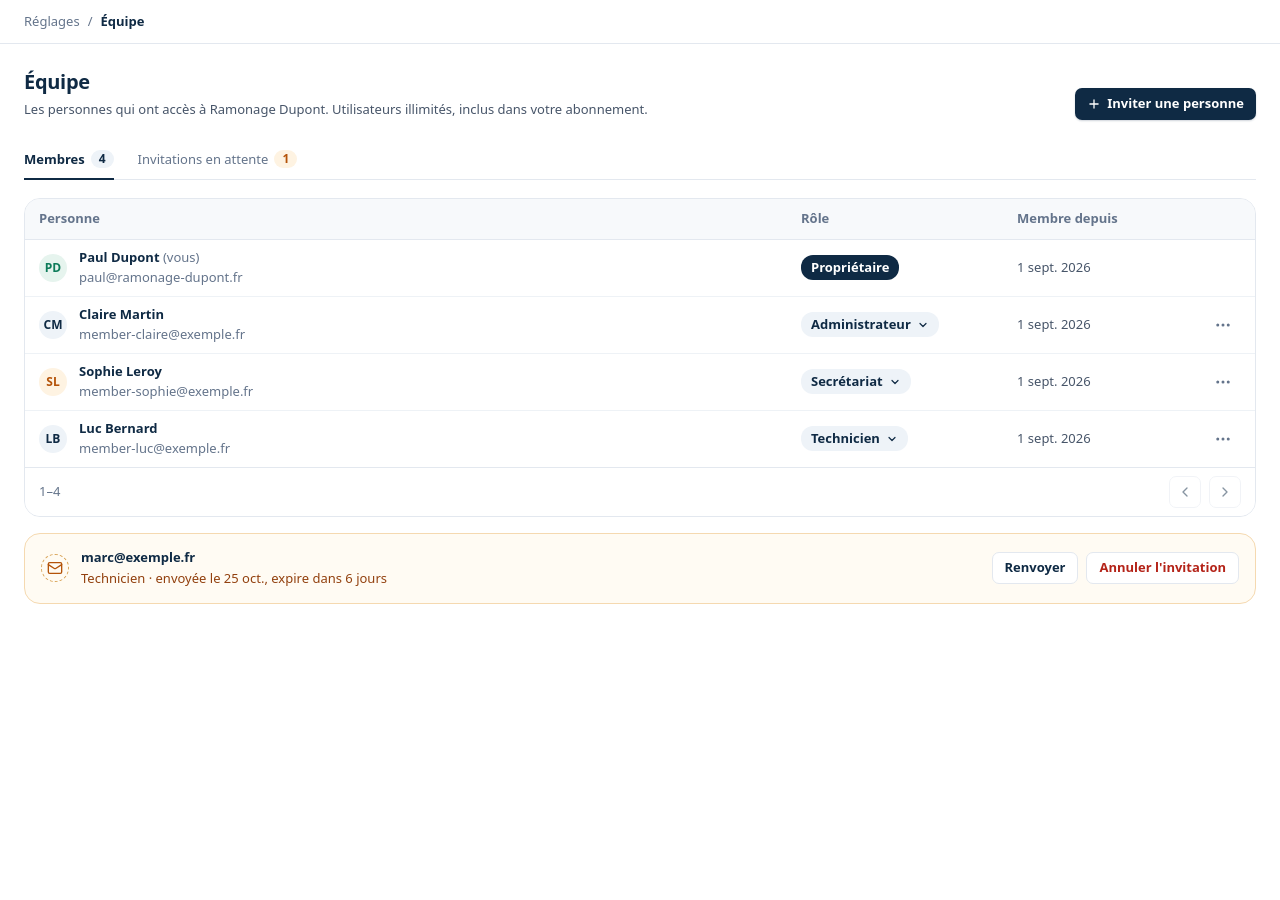
TeamScreen management actions › shows a refused removal with the short trace id
The image size is (1280, 900).
expect the text "Luc Bernard" is shown: met, box [79,419,158,437]
Click the button named "Actions pour Luc Bernard" at [1223, 439], box [1205,421,1241,457]
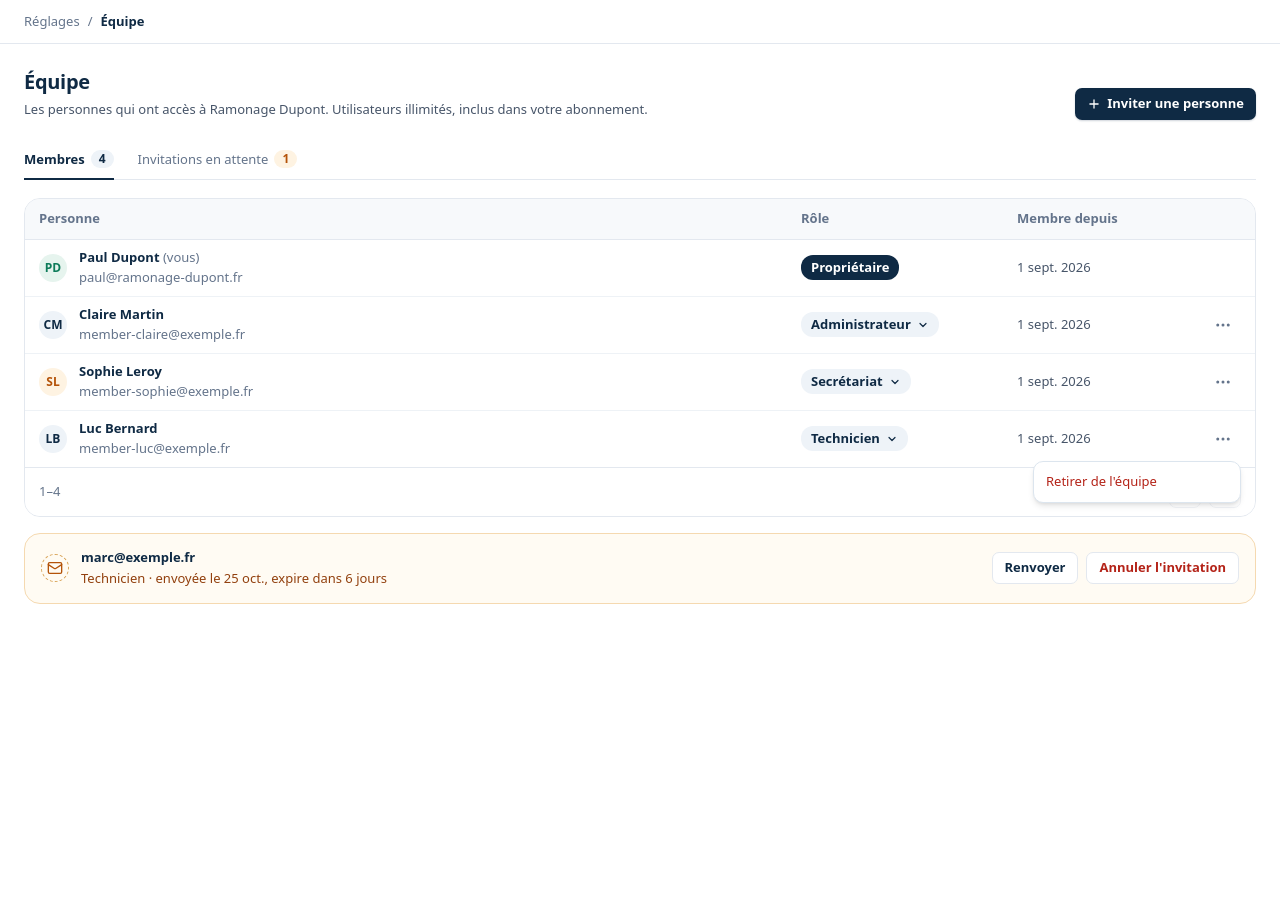
Click the menu item "Retirer de l'équipe" at [1101, 481], box [1046,472,1157,490]
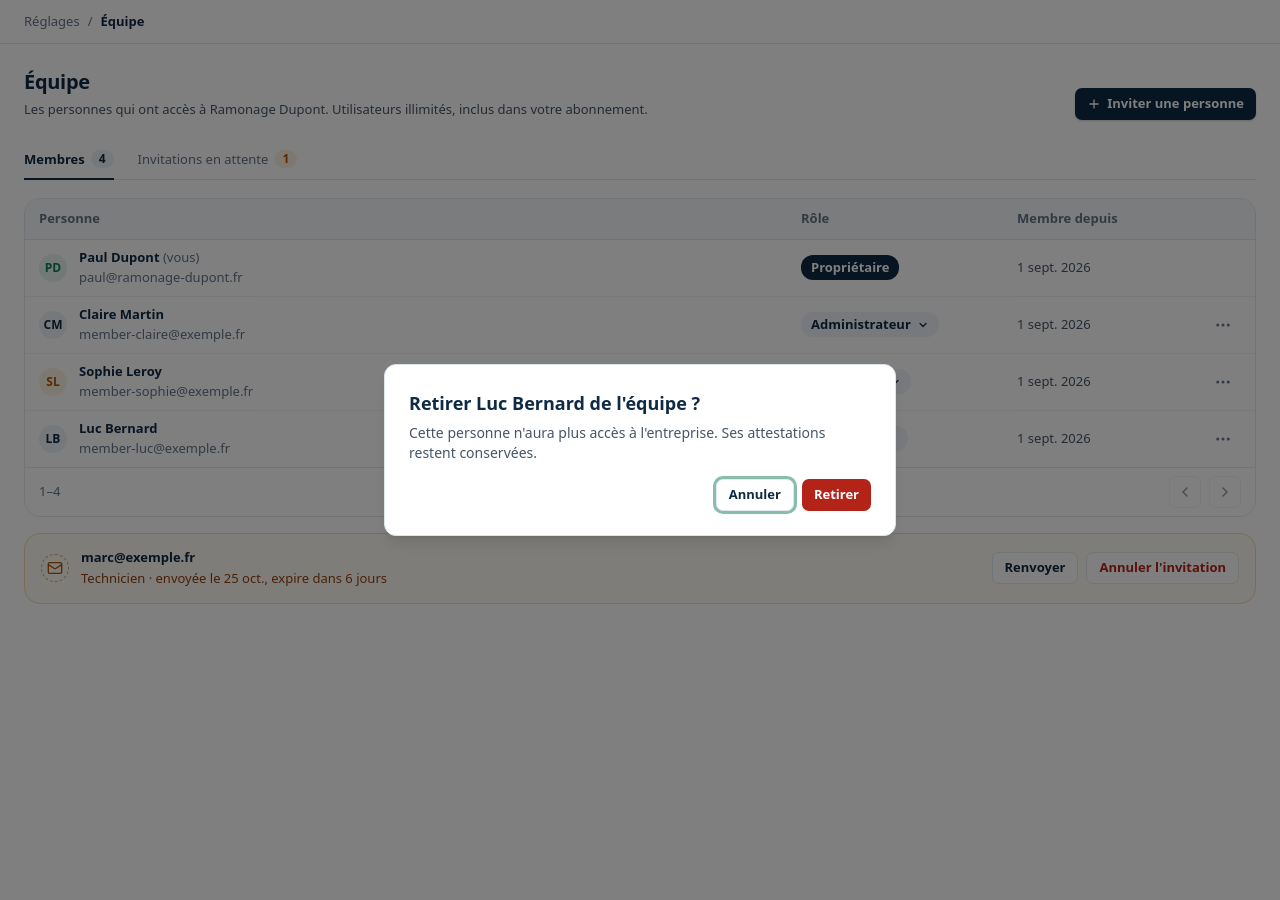
Click the button "Retirer" at [836, 495], box [802,479,871,511]
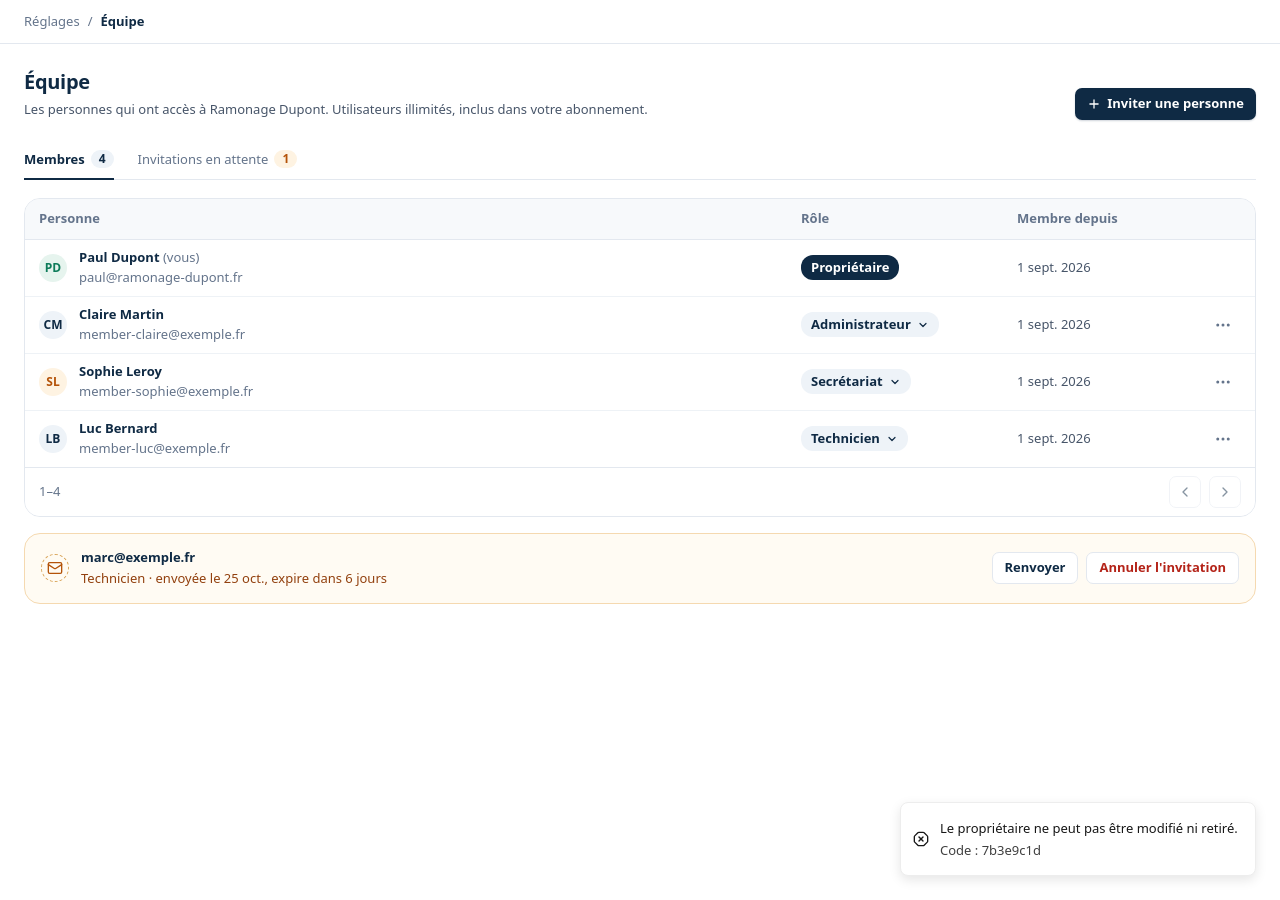
expect the text "Le propriétaire ne peut pas être modifié ni retiré." is shown: met, box [940,819,1238,839]
